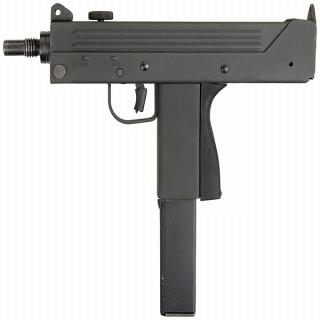gun: (3, 2, 316, 317)
